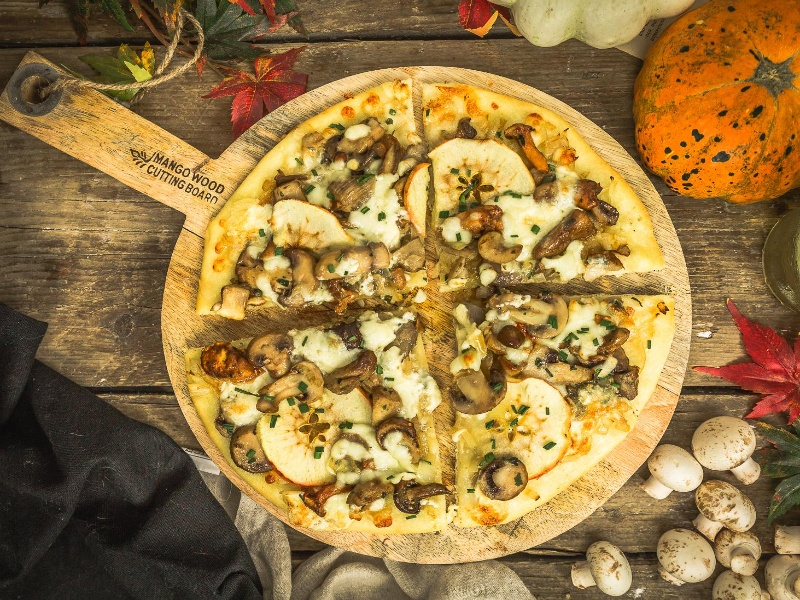champignon: (443, 356, 509, 417), (257, 360, 329, 414), (238, 328, 308, 378), (385, 477, 464, 518), (228, 425, 280, 482), (473, 230, 528, 270)
